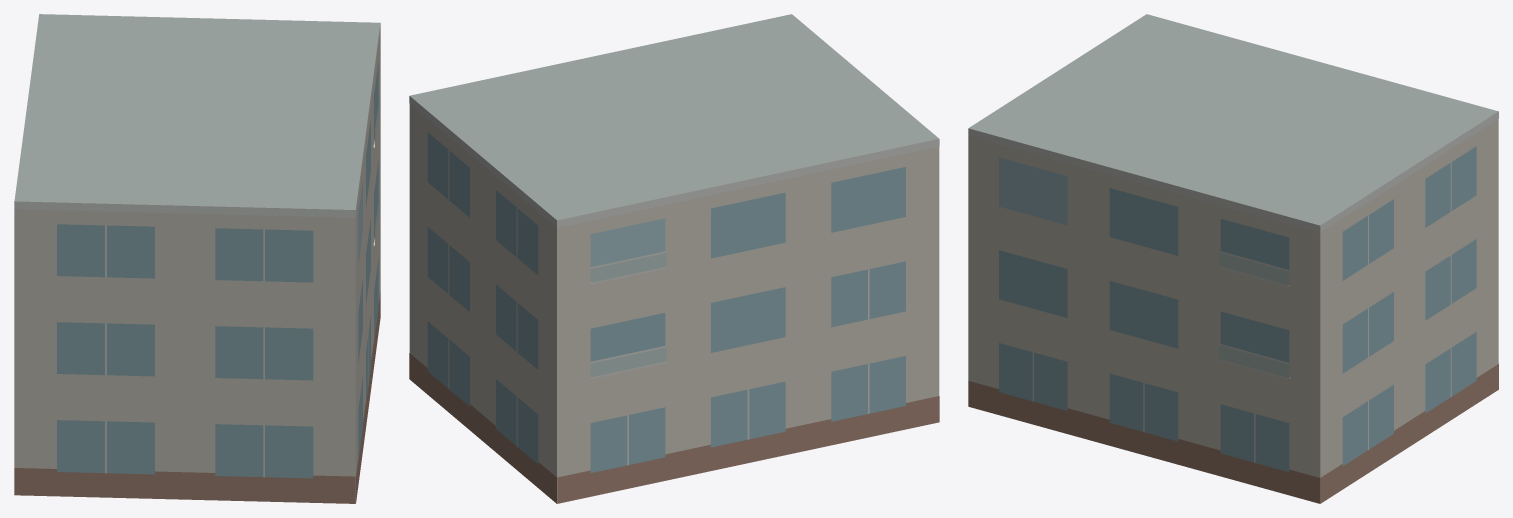
File: survey-upis-32822389.glb
3 views of the same model, side by side, from view 1: azimuth 30°, elevation 25°; view 2: azimuth 150°, elevation 25°; view 3: azimuth 270°, elevation 25° (orthographic). The views are drawn at different scales.
Visible parts, largest first — view 1: survey-upis-32822389.tmp; view 2: survey-upis-32822389.tmp; view 3: survey-upis-32822389.tmp.
Boxes of the visible parts, box(x1,y1,x2,y2) form: survey-upis-32822389.tmp: box(14, 14, 380, 503); survey-upis-32822389.tmp: box(409, 14, 939, 503); survey-upis-32822389.tmp: box(968, 14, 1498, 503).
Bounding box in the file's own units: 14.93 × 9.15 × 15.82.
